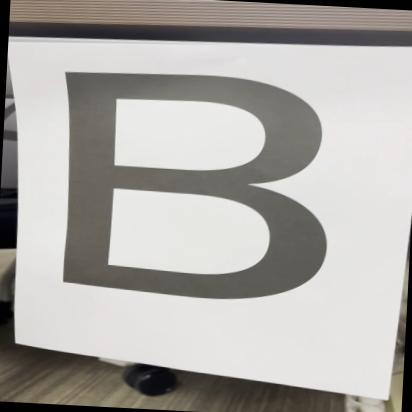seat: (25, 52, 344, 322)
